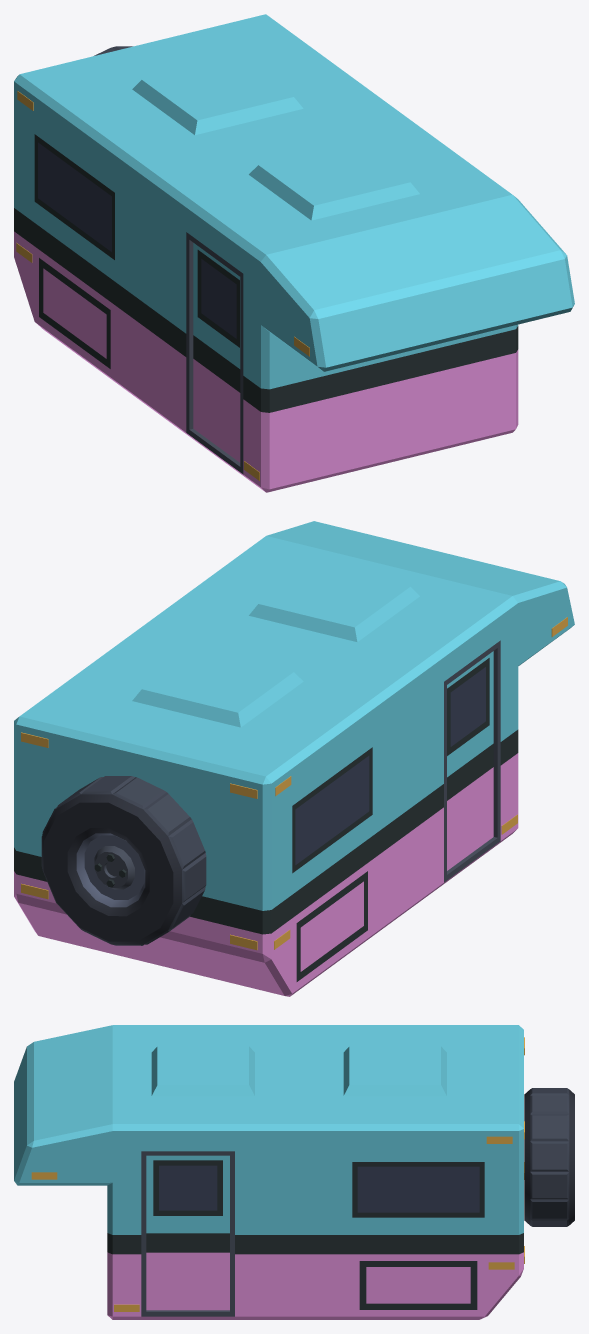
Rendered from OffroadCamper.fbx.
The picture shows the model from 3 angles, top to bottom: view 1: azimuth 30°, elevation 25°; view 2: azimuth 150°, elevation 25°; view 3: azimuth 270°, elevation 25°; orthographic projection. The views are drawn at different scales.
Parts seen in each view (by area): view 1: OffroadCamper; view 2: OffroadCamper; view 3: OffroadCamper.
Part boxes in pixels (left/top/right/bottom): OffroadCamper: left=14, top=14, right=574, bottom=492; OffroadCamper: left=14, top=521, right=574, bottom=996; OffroadCamper: left=14, top=1025, right=574, bottom=1319.
Size of the model in its own units: 184 by 169 by 420.
